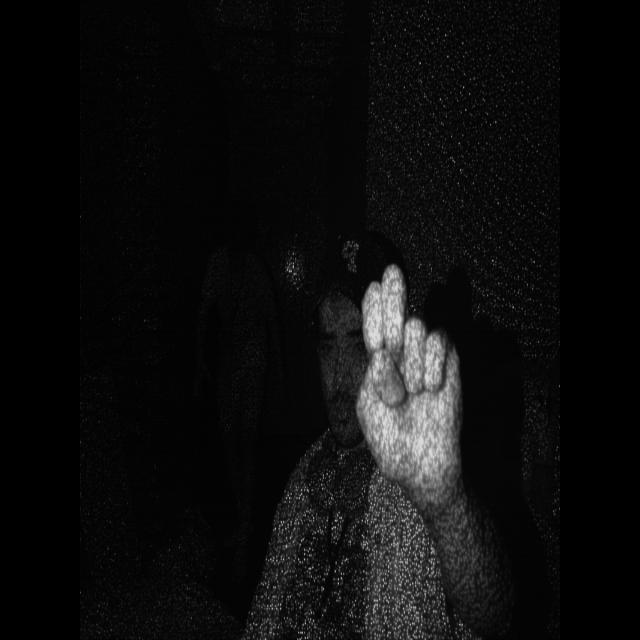S: (350, 245, 473, 518)
